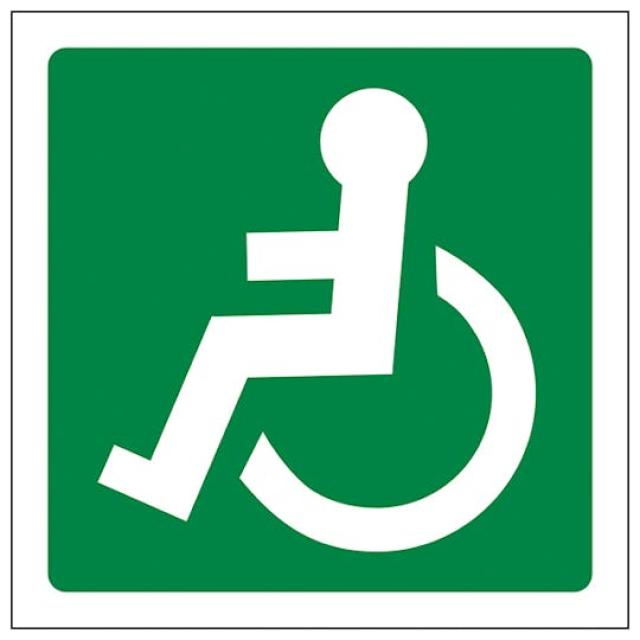exit_sign: (26, 36, 611, 606)
